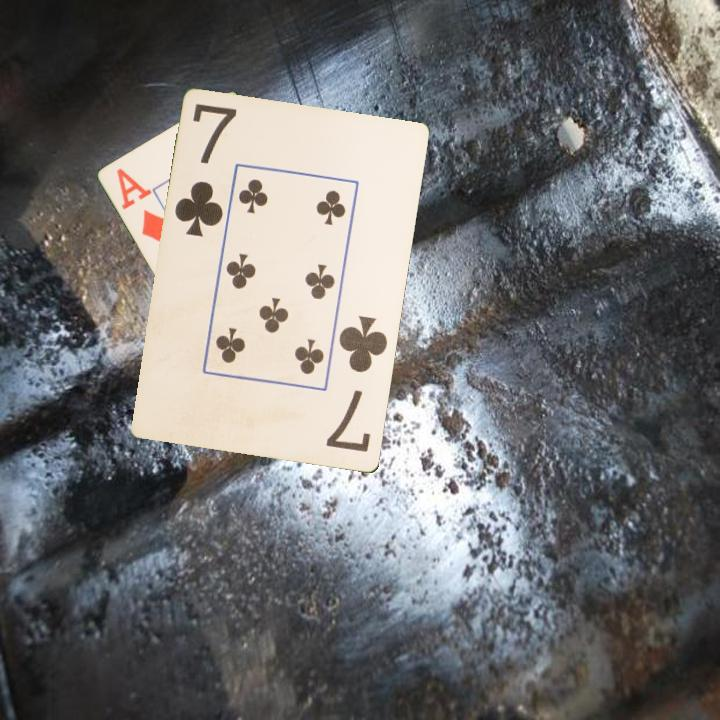7c: (322, 312, 391, 456), (171, 100, 241, 240)
Ad: (113, 164, 170, 247)
